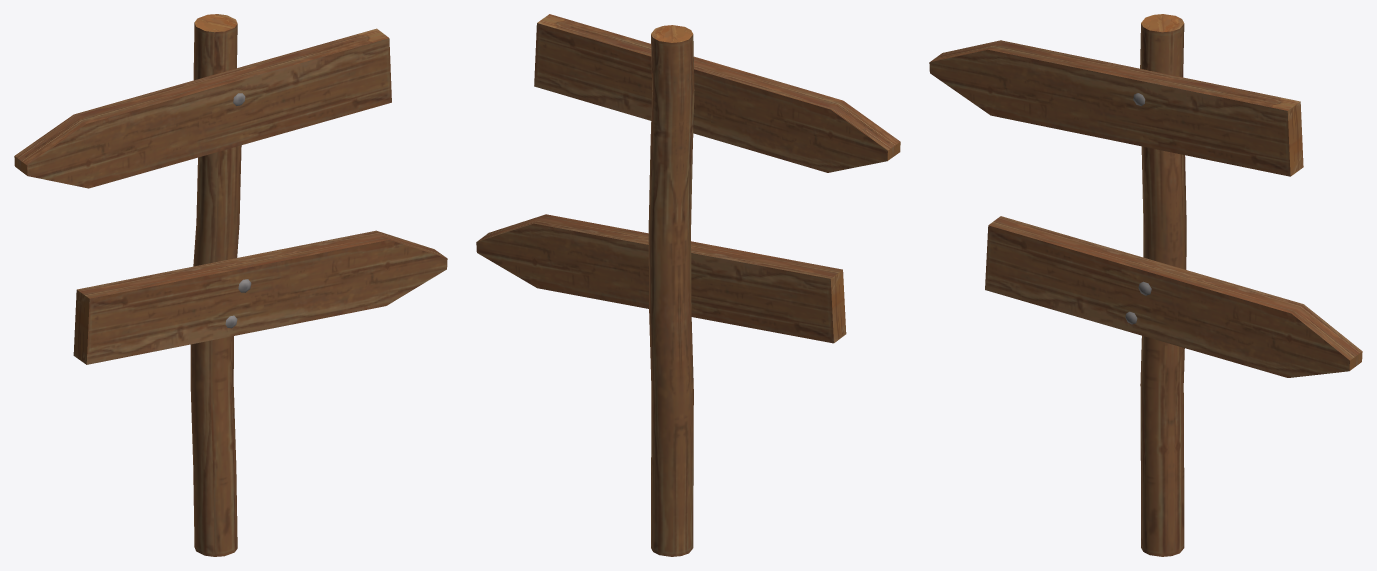
File: SM_Farm_Sign_01.fbx
3 renders of one model, left to right at view 1: azimuth 30°, elevation 25°; view 2: azimuth 150°, elevation 25°; view 3: azimuth 330°, elevation 25°, orthographic. The views are drawn at different scales.
Parts seen in each view (by area): view 1: SM_Farm_Sign_01_LOD0; view 2: SM_Farm_Sign_01_LOD0; view 3: SM_Farm_Sign_01_LOD0.
Boxes of the visible parts, left/top/right/bottom form: SM_Farm_Sign_01_LOD0: left=14, top=14, right=447, bottom=556; SM_Farm_Sign_01_LOD0: left=476, top=14, right=900, bottom=556; SM_Farm_Sign_01_LOD0: left=929, top=14, right=1362, bottom=556.
Size of what is drawn, in the model's own units: 122 by 146 by 19.38.
